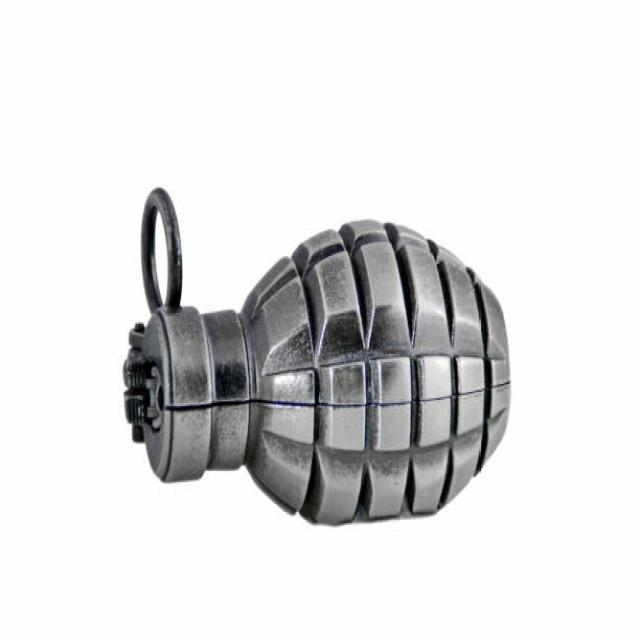grenade: (120, 183, 517, 538)
